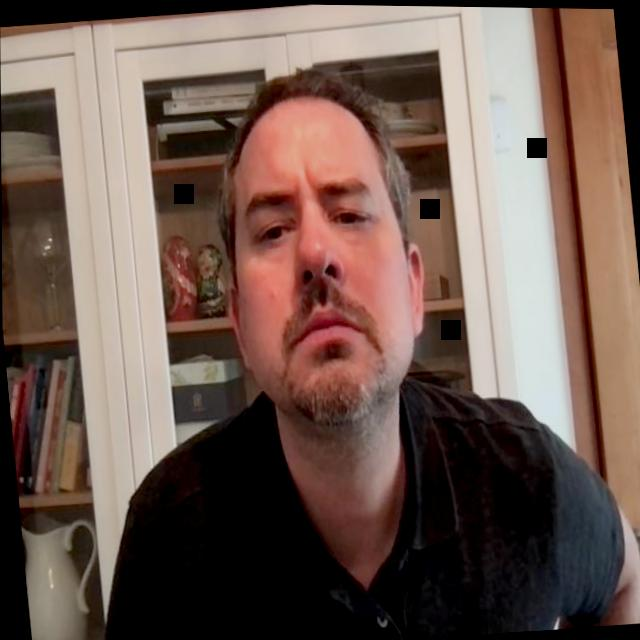NO-Mask: (201, 55, 436, 425)
